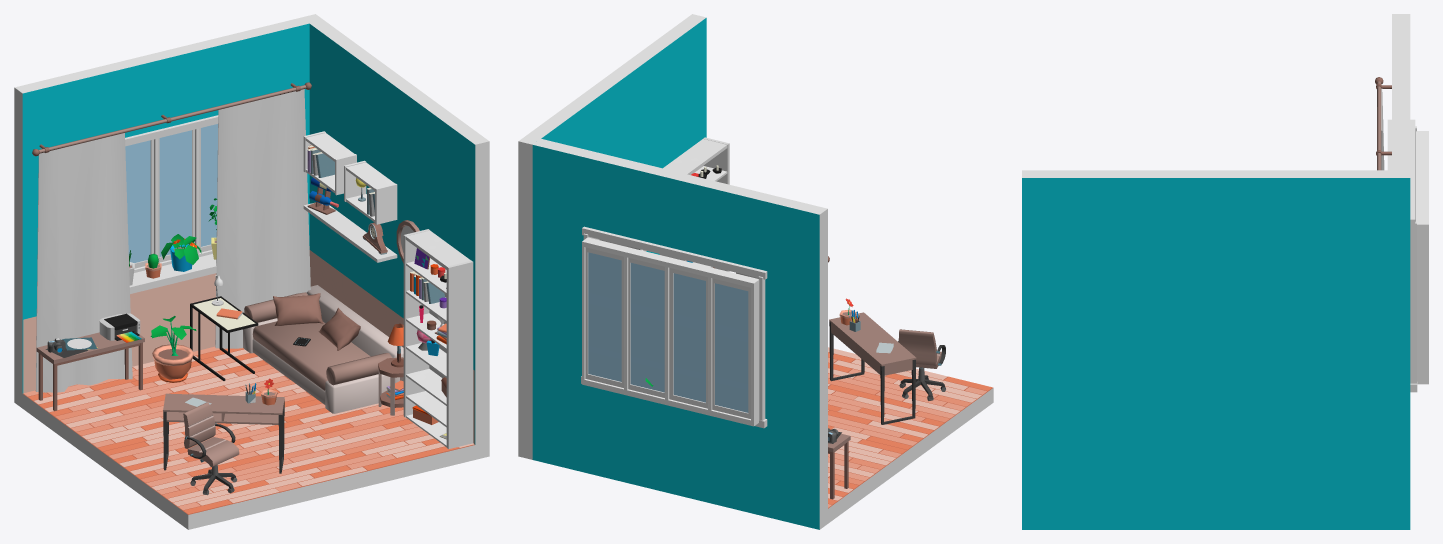
File: room_6.glb
The picture shows the model from 3 angles, left to right: view 1: azimuth 30°, elevation 25°; view 2: azimuth 150°, elevation 25°; view 3: azimuth 270°, elevation 25°; orthographic projection. The views are drawn at different scales.
Visible parts, largest first — view 1: Walls_094.004, floor_003.001, Curtains_009.001, Curtains_009.002, Walls_043.001, Walls_094.006, sofa_004.001, shelf_053.001, window_011.001, Walls_094.005, carpet_007.001, Walls_094.003 (+19 smaller); view 2: window_011.001, Walls_094.005, Walls_094.004, Walls_094.003, Walls_094.007, Walls_094.006, floor_003.001, Walls_043.001, office_table_029.001, shelf_053.001, office_chair_009.001, Walls_005.065 (+2 smaller); view 3: Walls_094.004, window_011.001, Walls_094.006, Walls_005.064, Walls_005.065, Walls_094.003, Walls_094.005, Curtains_025.001.
Part boxes in pixels (x1,y1,x2,y2): Walls_094.004: (301,14,489,459); floor_003.001: (23,346,474,513); Curtains_009.001: (35,133,132,392); Curtains_009.002: (215,89,310,348); Walls_043.001: (22,349,475,529); Walls_094.006: (72,31,252,139); sofa_004.001: (243,285,403,413); shelf_053.001: (403,229,473,449); window_011.001: (125,124,217,272); Walls_094.005: (14,73,79,408); carpet_007.001: (23,273,216,393); Walls_094.003: (244,17,309,245); window_011.001: (582,237,759,426); Walls_094.005: (762,194,827,529); Walls_094.004: (518,14,706,459); Walls_094.003: (532,139,597,473); Walls_094.007: (590,386,762,515); Walls_094.006: (590,152,769,269); floor_003.001: (828,347,992,507); Walls_043.001: (828,352,993,523); office_table_029.001: (829,312,916,424); shelf_053.001: (659,137,729,271); office_chair_009.001: (898,329,945,400); Walls_005.065: (582,226,767,279); Walls_094.004: (1022,170,1410,529); window_011.001: (1416,131,1428,384); Walls_094.006: (1392,45,1410,138); Walls_005.064: (1410,221,1416,383); Walls_005.065: (1387,119,1415,227); Walls_094.003: (1392,139,1410,170); Walls_094.005: (1392,14,1410,45); Curtains_025.001: (1375,77,1391,170).
Size of the model in its own units: 4.2 by 4.2 by 4.4.
1 material, 1 textured.
